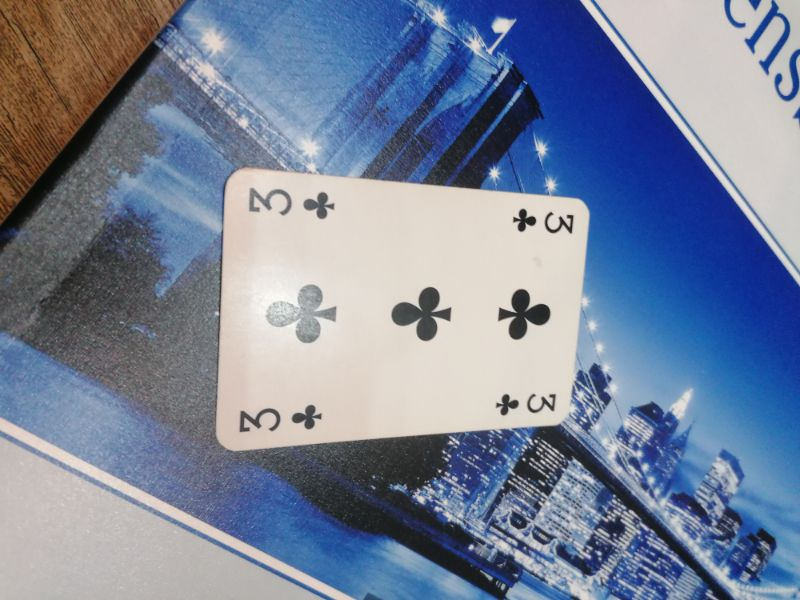3c: (243, 181, 338, 222), (233, 400, 327, 437), (509, 204, 575, 240), (493, 390, 559, 419)
